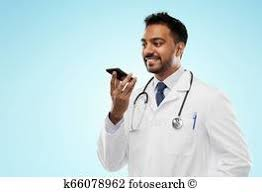Indian_Male: (143, 20, 178, 78)
